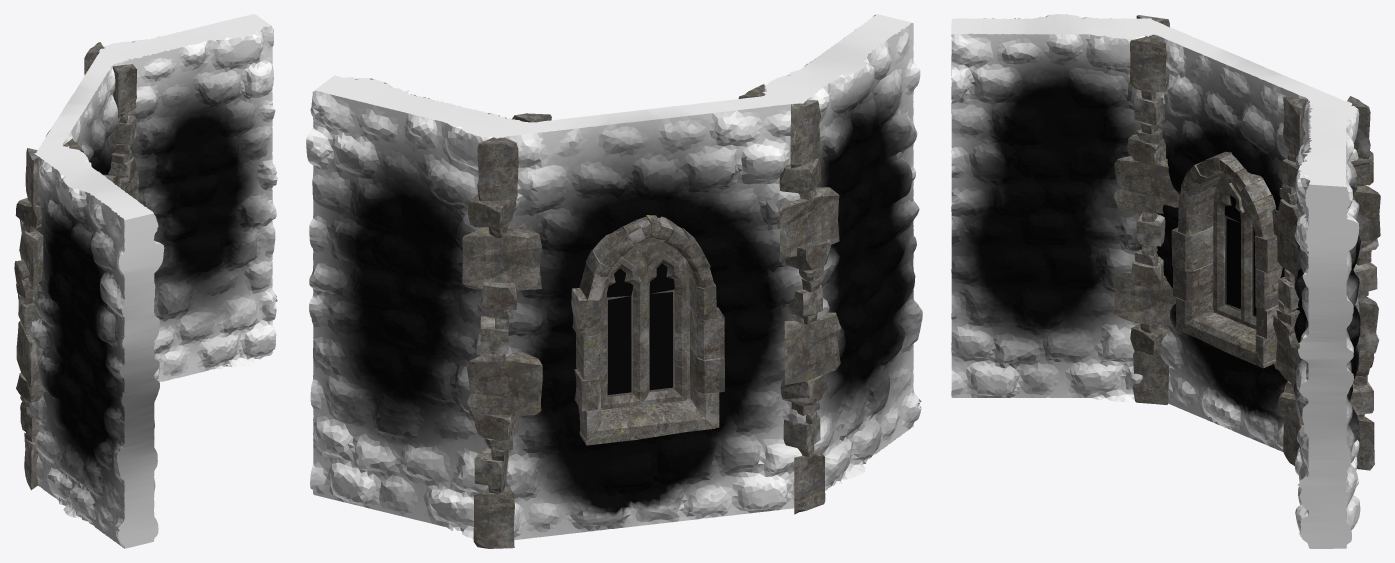
File: SM_CastleTower_Window_A_03.fbx
3 renders of one model, left to right at view 1: azimuth 30°, elevation 25°; view 2: azimuth 150°, elevation 25°; view 3: azimuth 270°, elevation 25°, orthographic. The views are drawn at different scales.
Visible parts, largest first — view 1: SM_CastleTower_Window_A_03_LOD0; view 2: SM_CastleTower_Window_A_03_LOD0; view 3: SM_CastleTower_Window_A_03_LOD0.
Part boxes in pixels (box(x1,y1,x2,y2)): SM_CastleTower_Window_A_03_LOD0: box(14, 14, 277, 548); SM_CastleTower_Window_A_03_LOD0: box(306, 14, 922, 548); SM_CastleTower_Window_A_03_LOD0: box(951, 14, 1380, 548).
Bounding box in the file's own units: 417 × 428 × 401.
